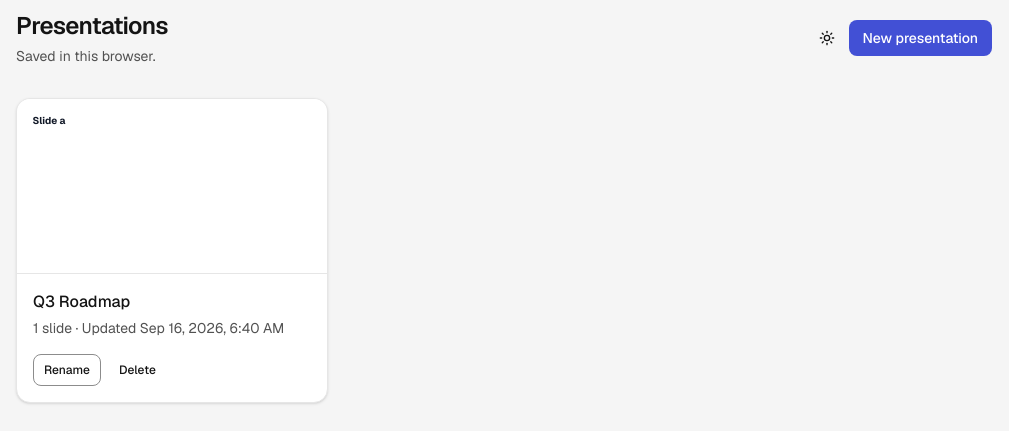
DeckDashboard › renames a presentation
Click the button with aria-label "Rename Q3 Roadmap" at (67, 370), box [33,354,101,386]
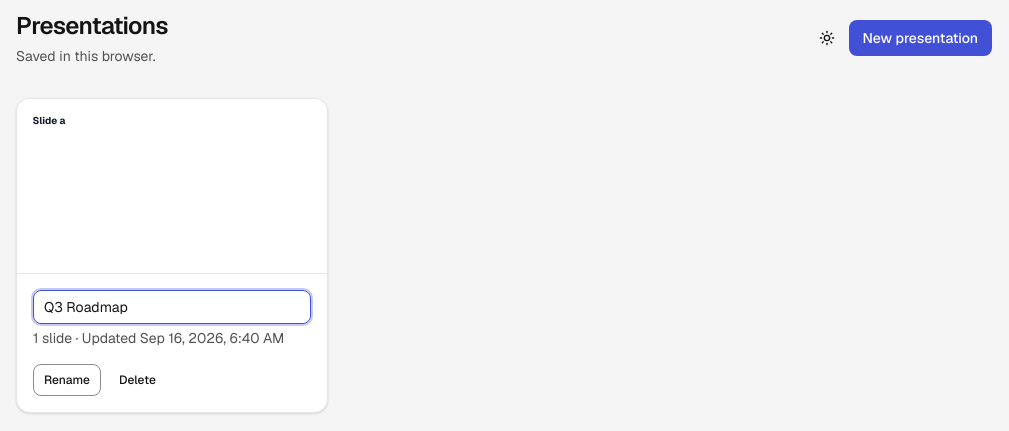
Replace the text in the field named "Presentation title" with "Q4 Plan" at (172, 307), box [33,290,311,324]
Then press Enter
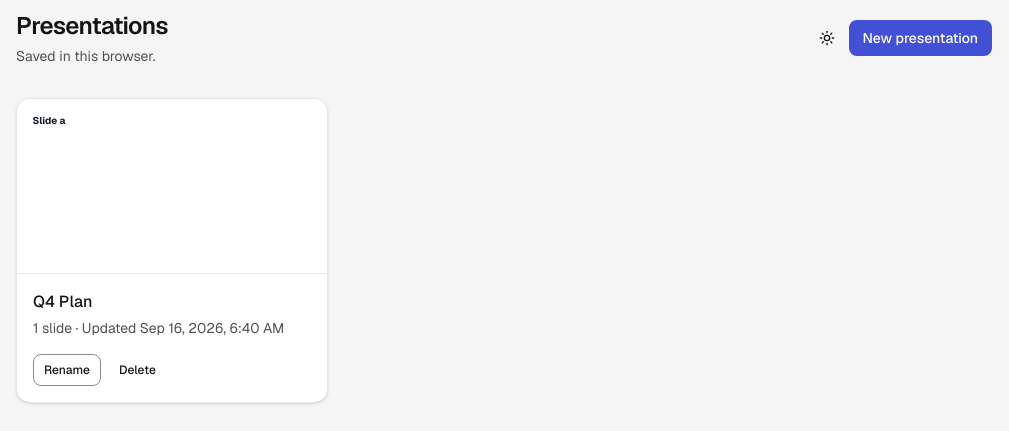
Now the link "Q4 Plan" is shown, box [33,291,92,312]
